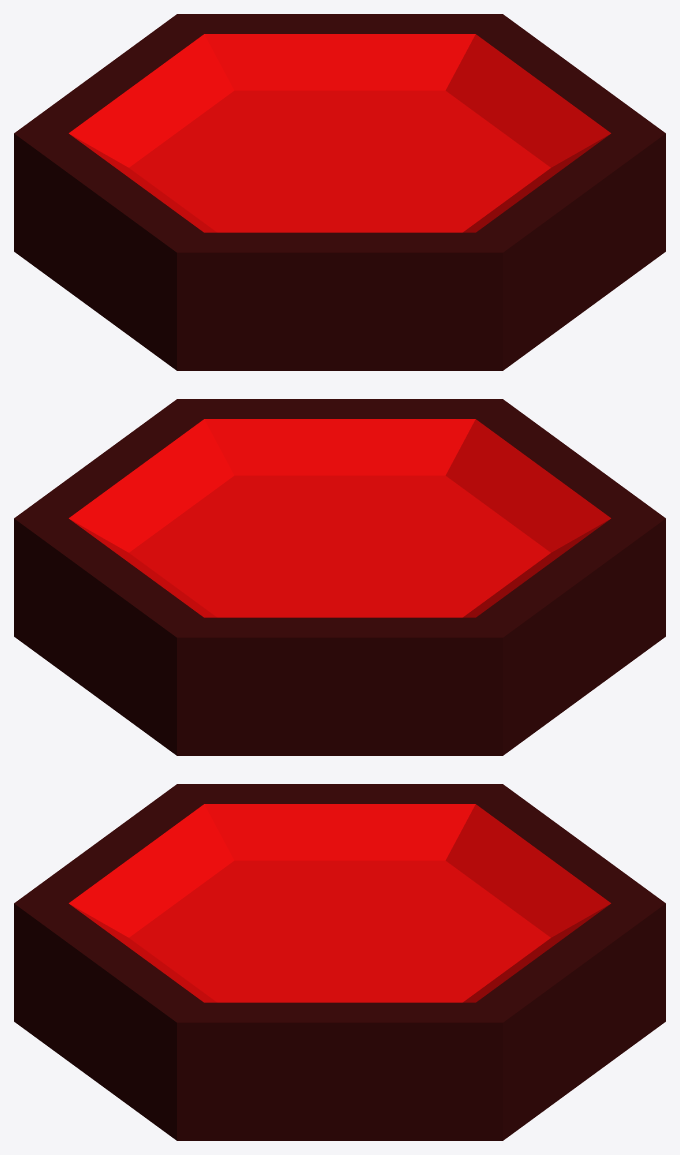
Rendered from TileHex_15.fbx.
3 views of the same model, one above another, from view 1: azimuth 30°, elevation 25°; view 2: azimuth 150°, elevation 25°; view 3: azimuth 270°, elevation 25° (orthographic).
Visible parts, largest first — view 1: TileHex_15; view 2: TileHex_15; view 3: TileHex_15.
Part boxes in pixels (x1=…): TileHex_15: x1=14, y1=14, x2=665, y2=370; TileHex_15: x1=14, y1=399, x2=665, y2=755; TileHex_15: x1=14, y1=784, x2=665, y2=1140.
Bounding box in the file's own units: 433 × 100 × 500.
